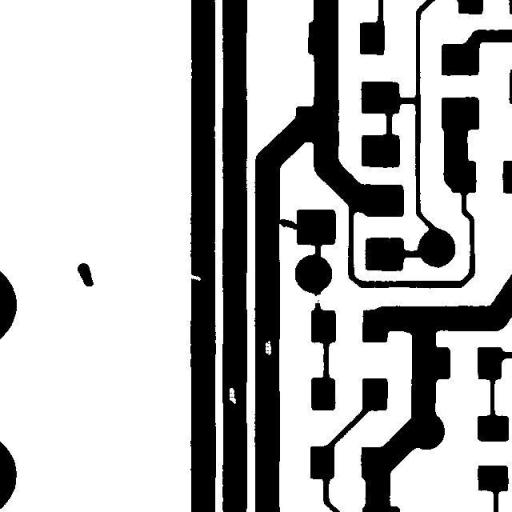copper: (70, 255, 100, 294)
mousebite: (180, 266, 208, 288)
open: (304, 286, 330, 312)
pin-hole: (222, 380, 243, 411), (258, 333, 278, 362)
short: (271, 211, 306, 237)
